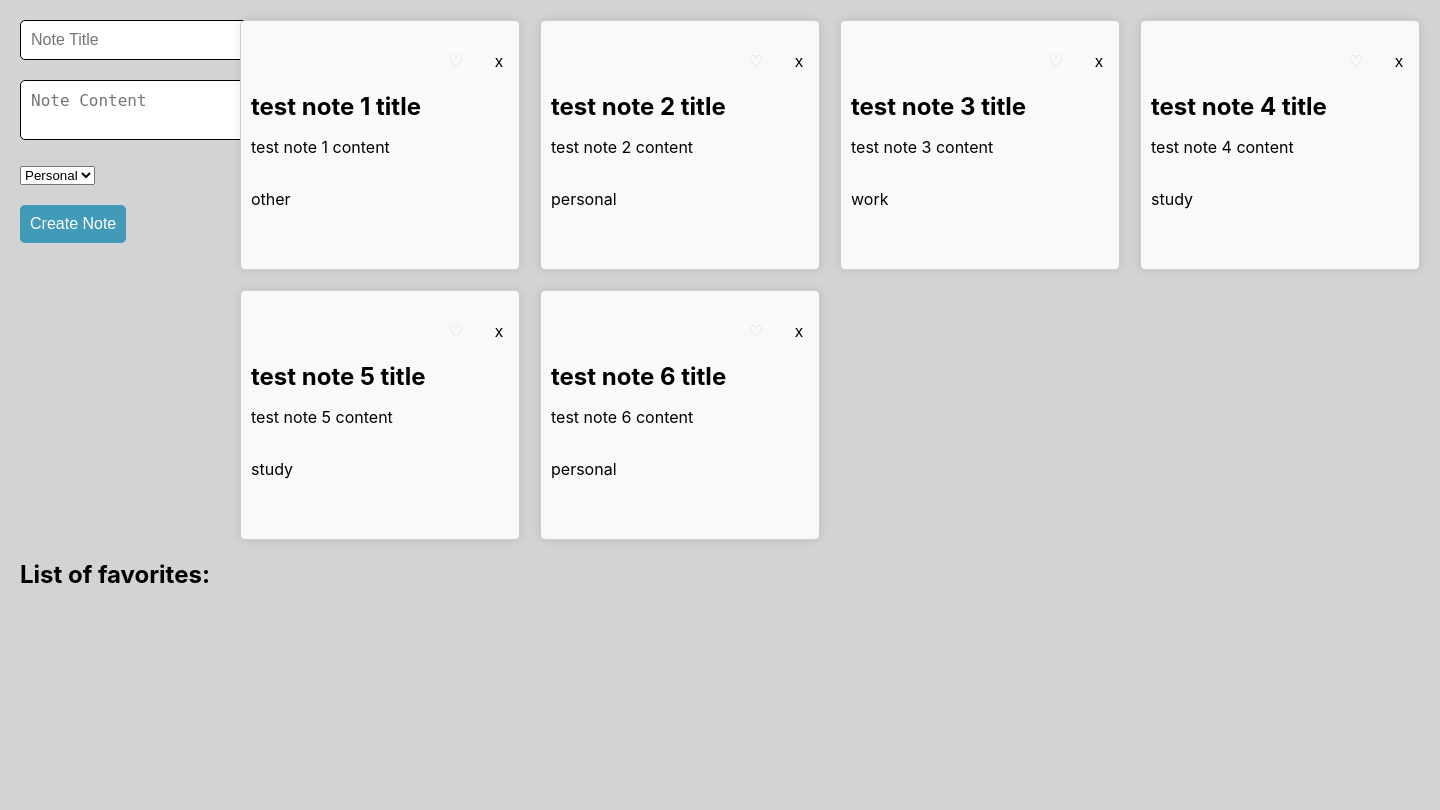
Test case: Create StickyNote › Check if 0 sticky notes
Click the 1st button "x" at {"x": 499, "y": 62}, box [489,31,509,92]
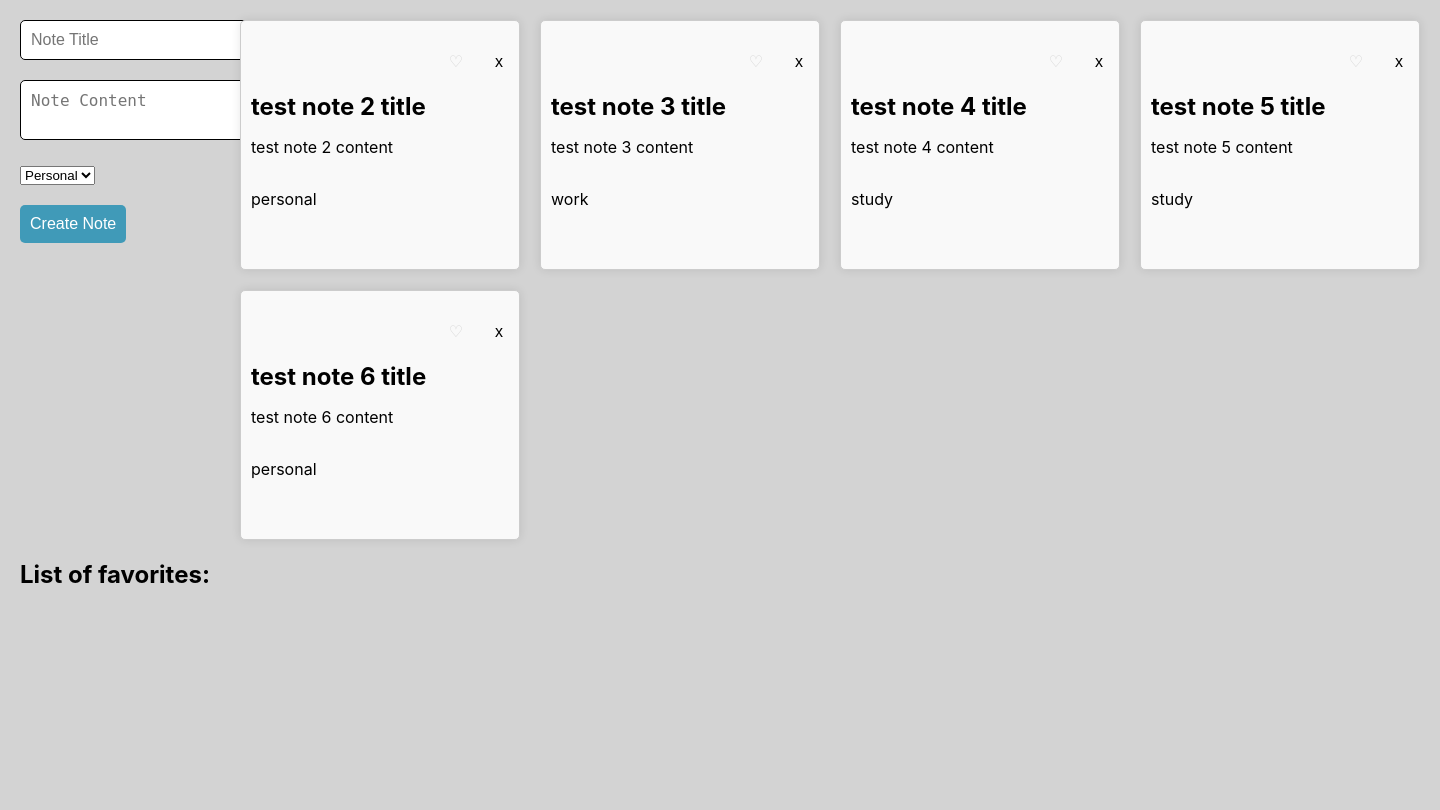
Click the 1st button "x" at {"x": 499, "y": 62}, box [489,31,509,92]
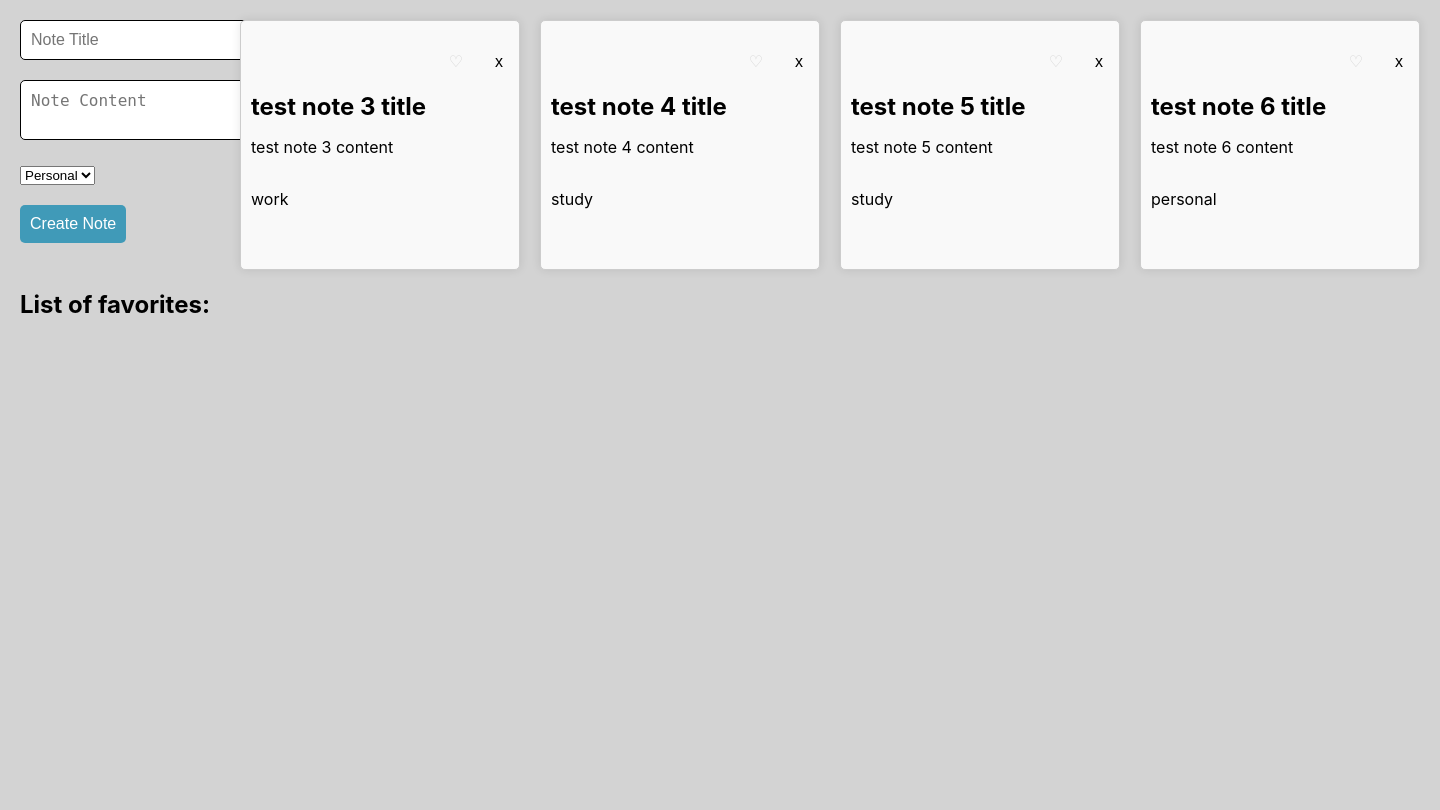
Click the 1st button "x" at {"x": 499, "y": 62}, box [489,31,509,92]
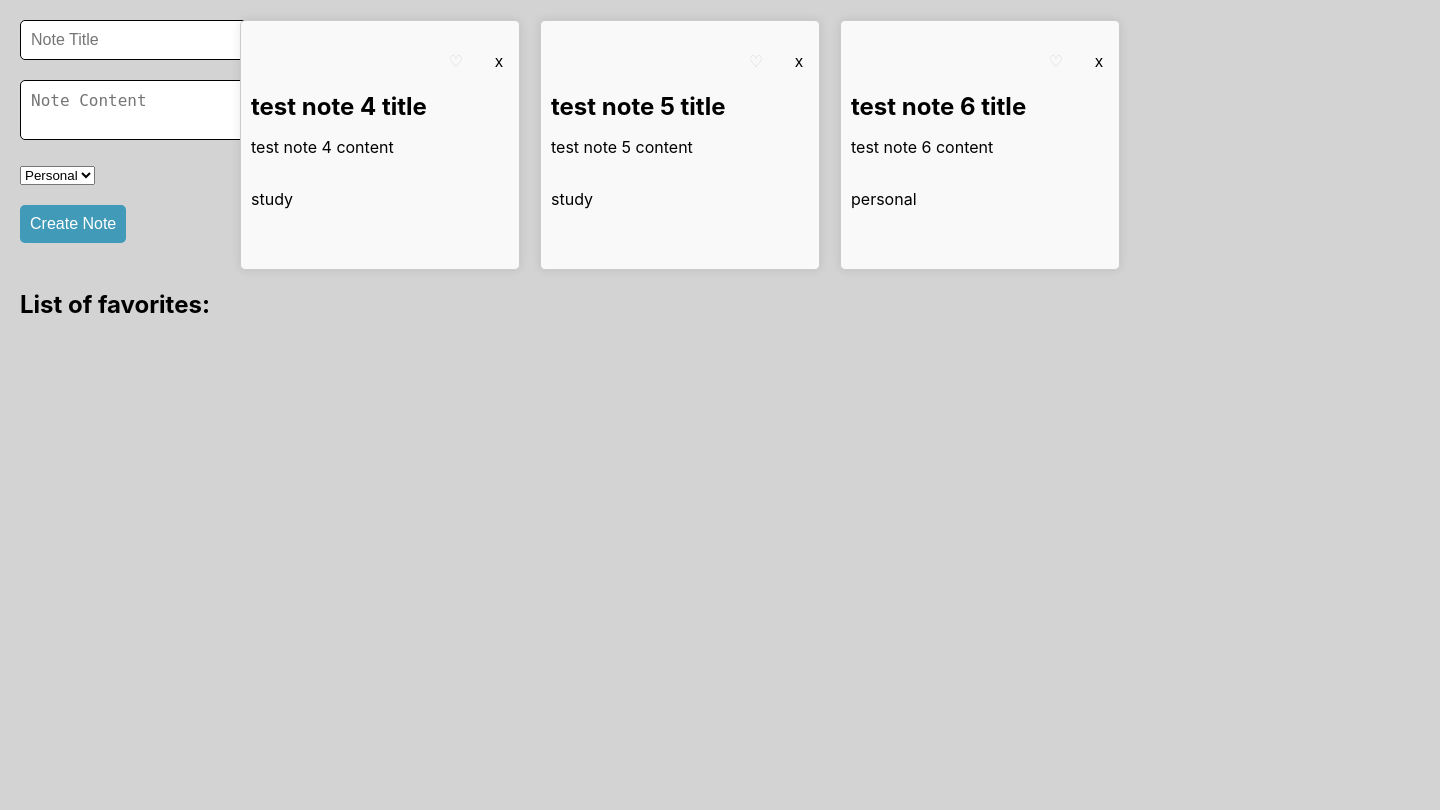
Click the 1st button "x" at {"x": 499, "y": 62}, box [489,31,509,92]
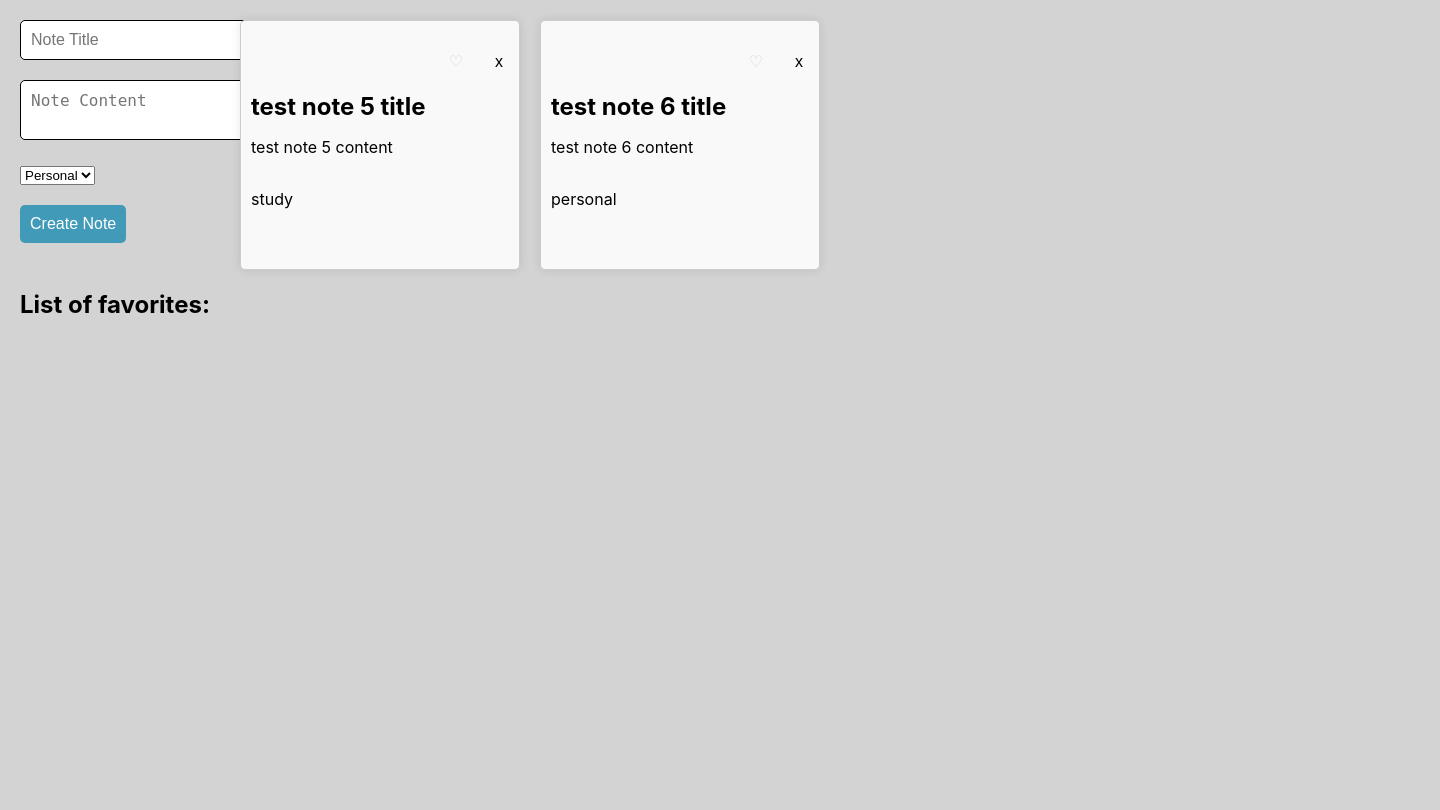
Click the 1st button "x" at {"x": 499, "y": 62}, box [489,31,509,92]
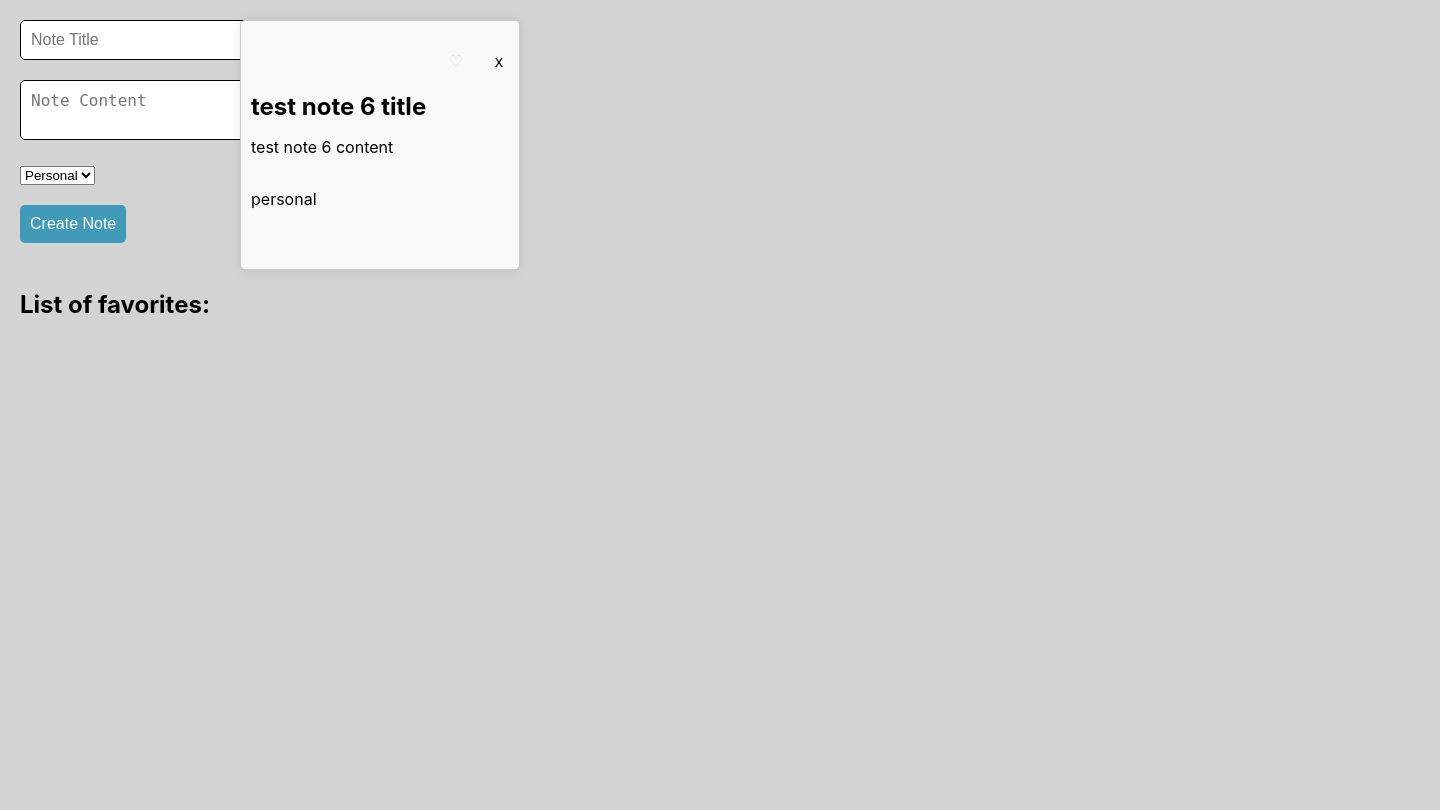
Click the button "x" at {"x": 499, "y": 62}, box [489,31,509,92]
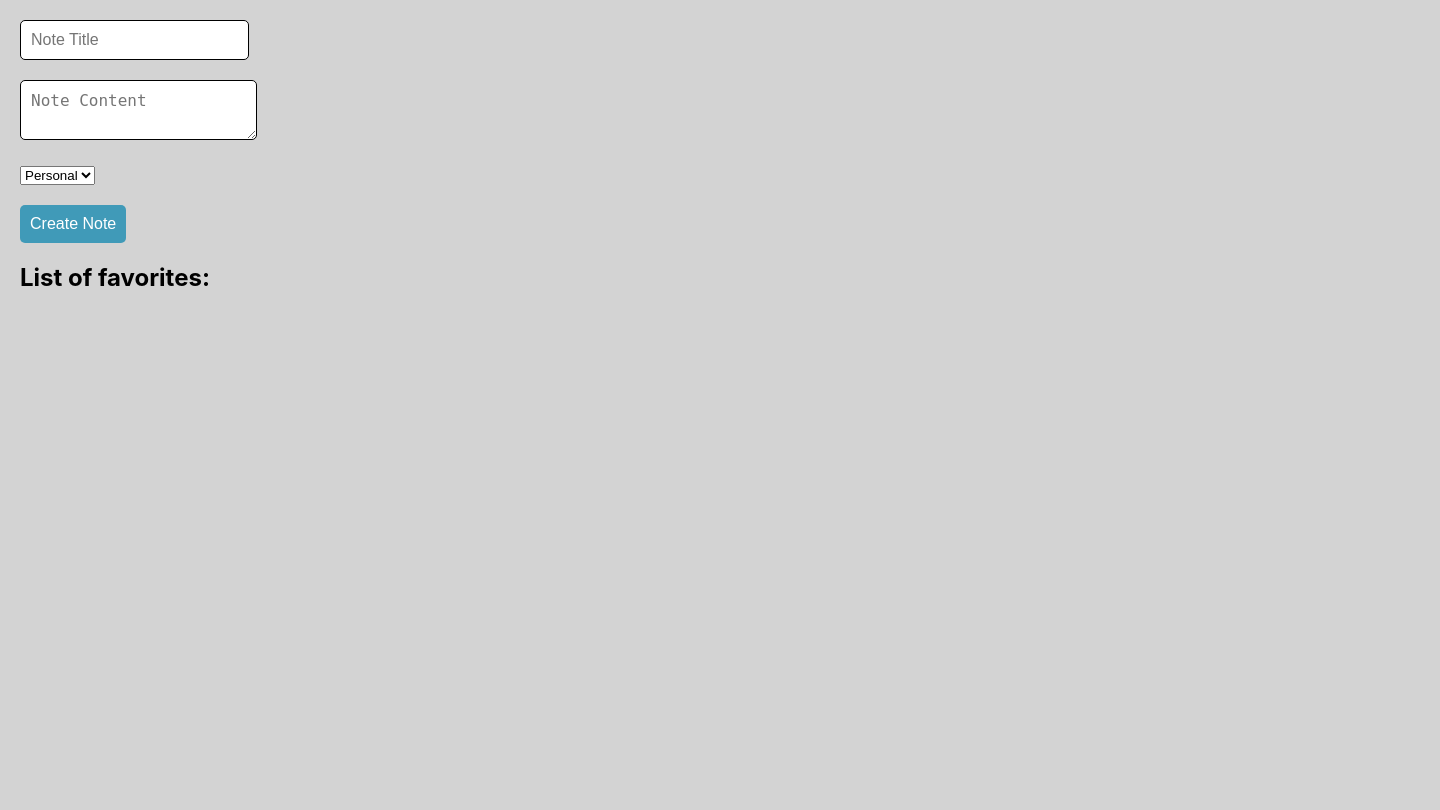
Check: the button "x" is gone
